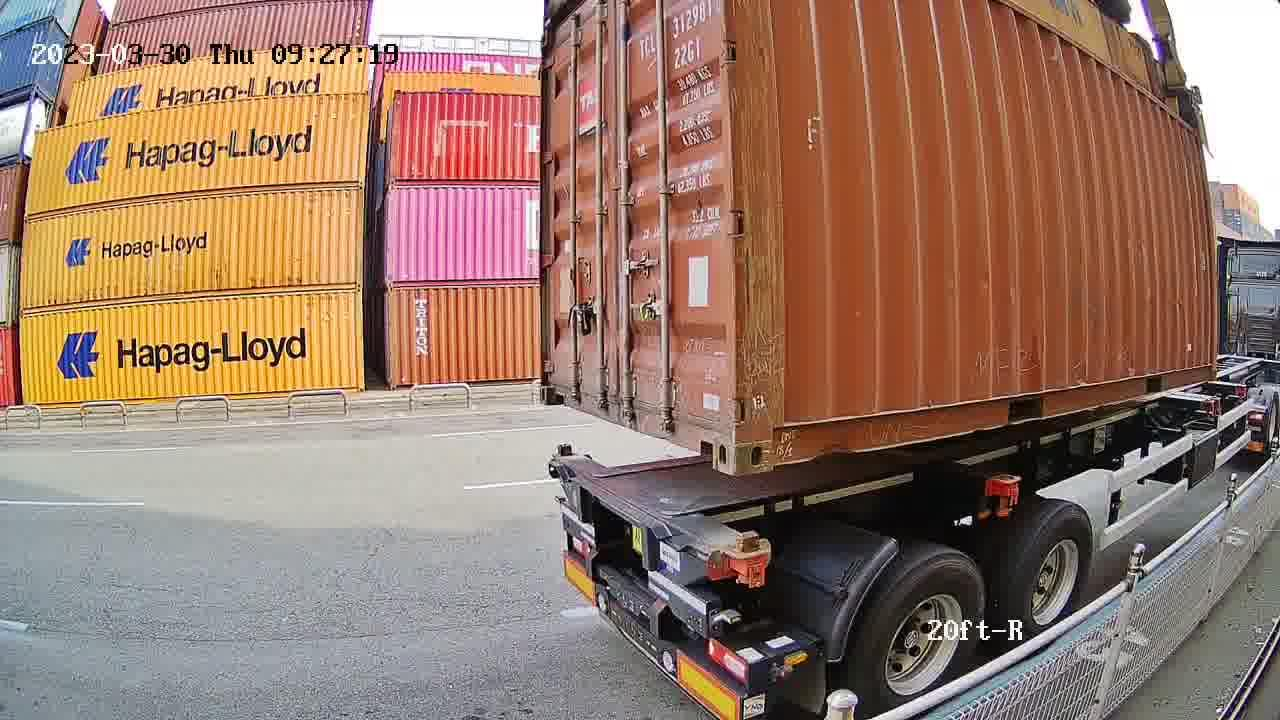Chassis: (553, 453, 768, 586)
Cone: (731, 530, 769, 587), (553, 440, 572, 456)
Hole_L: (736, 404, 806, 475), (540, 364, 576, 410)
Hole_R: (684, 398, 734, 475)
Tire: (858, 553, 988, 717), (1009, 506, 1094, 647)
